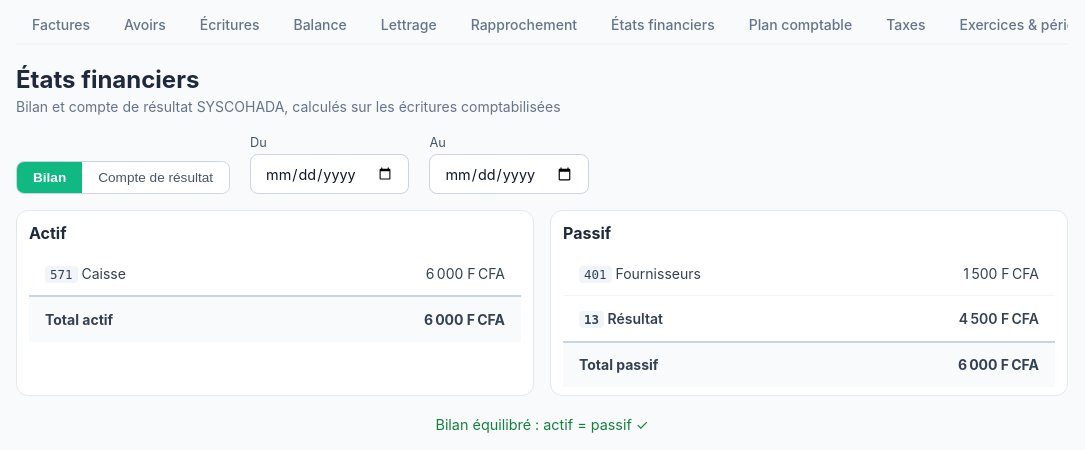
Test case: StatementsView › switches to the income statement and shows the profit
Step 1. Click the button with test id "tab-resultat" → (156, 178), box [82,162,229,193]
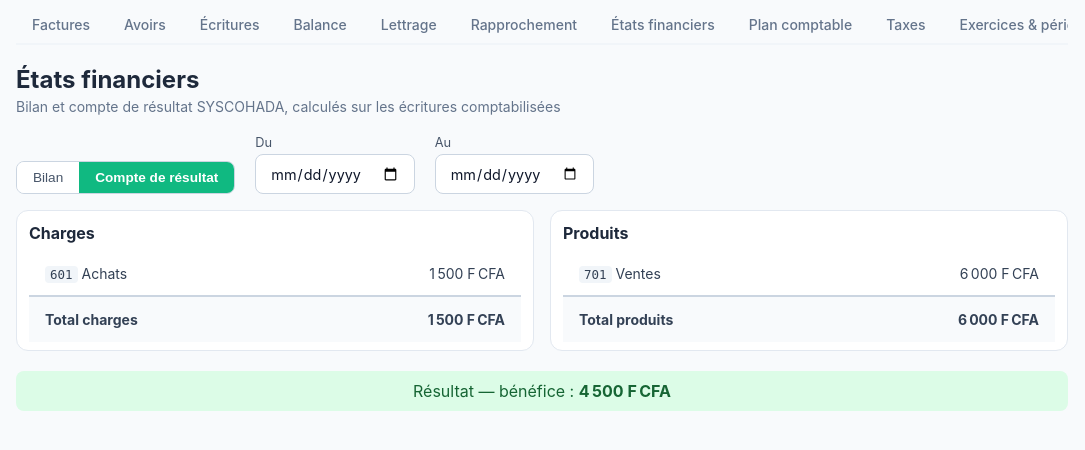
Check: the element with test id "is-result" shows "bénéfice", box [413,381,579,401]
